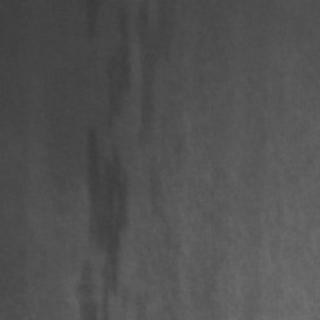inclusion: (75, 1, 131, 316), (136, 0, 176, 246)
